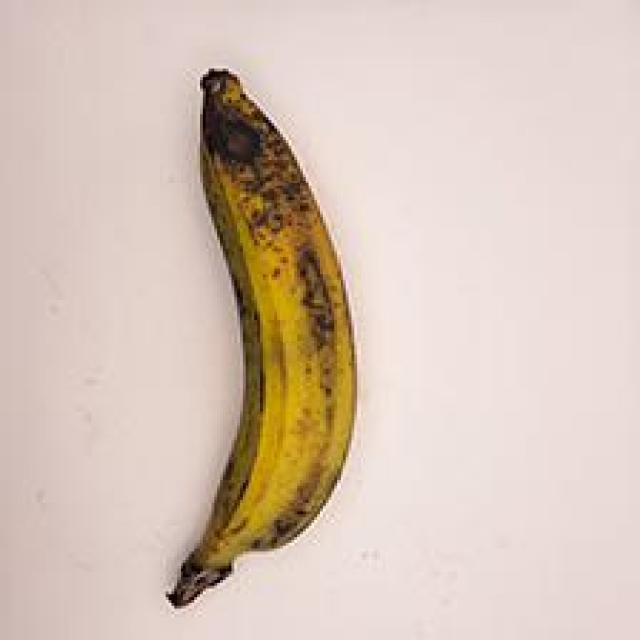Overripe: (112, 38, 394, 611)
